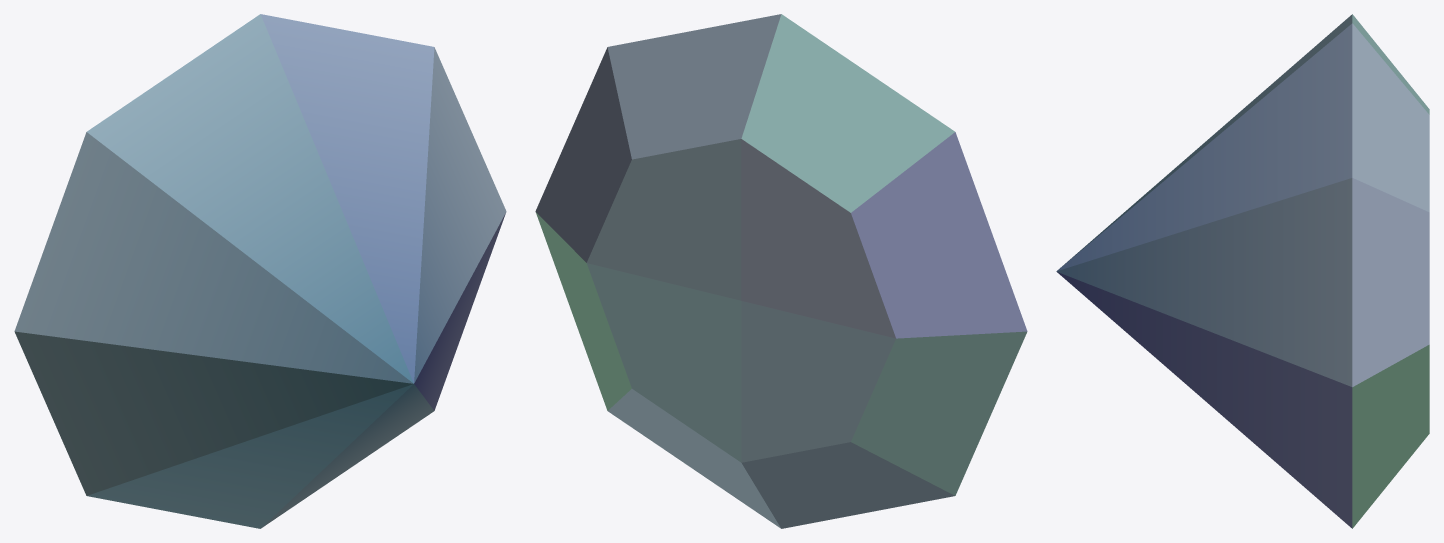
The model's file is Diamond.007.glb.
3 views of the same model, side by side, from view 1: azimuth 30°, elevation 25°; view 2: azimuth 150°, elevation 25°; view 3: azimuth 270°, elevation 25° (orthographic). The views are drawn at different scales.
Visible parts, largest first — view 1: Diamond.007; view 2: Diamond.007; view 3: Diamond.007.
Part boxes in pixels (left/top/right/bottom): Diamond.007: left=14, top=14, right=506, bottom=528; Diamond.007: left=535, top=14, right=1027, bottom=528; Diamond.007: left=1056, top=14, right=1429, bottom=528.
Bounding box in the file's own units: 66.94 × 66.94 × 45.63.
